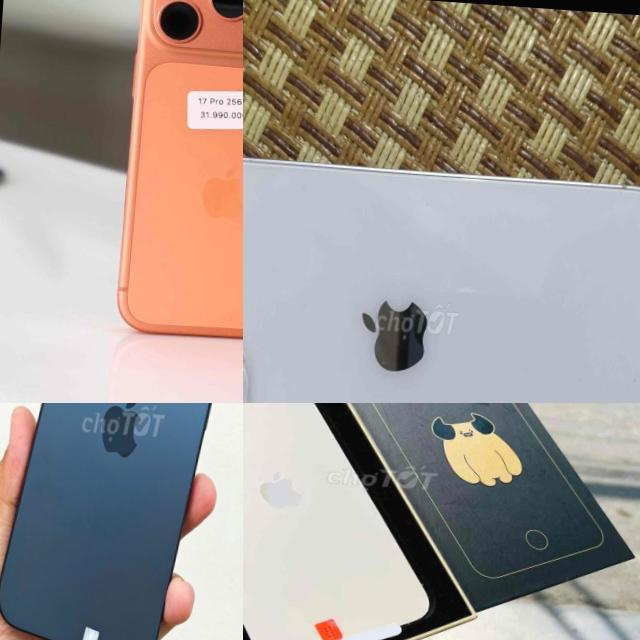gen_12_13: (243, 403, 426, 640)
gen_14: (243, 143, 640, 403)
gen_15: (0, 403, 243, 640)
gen_17: (99, 0, 243, 356)
